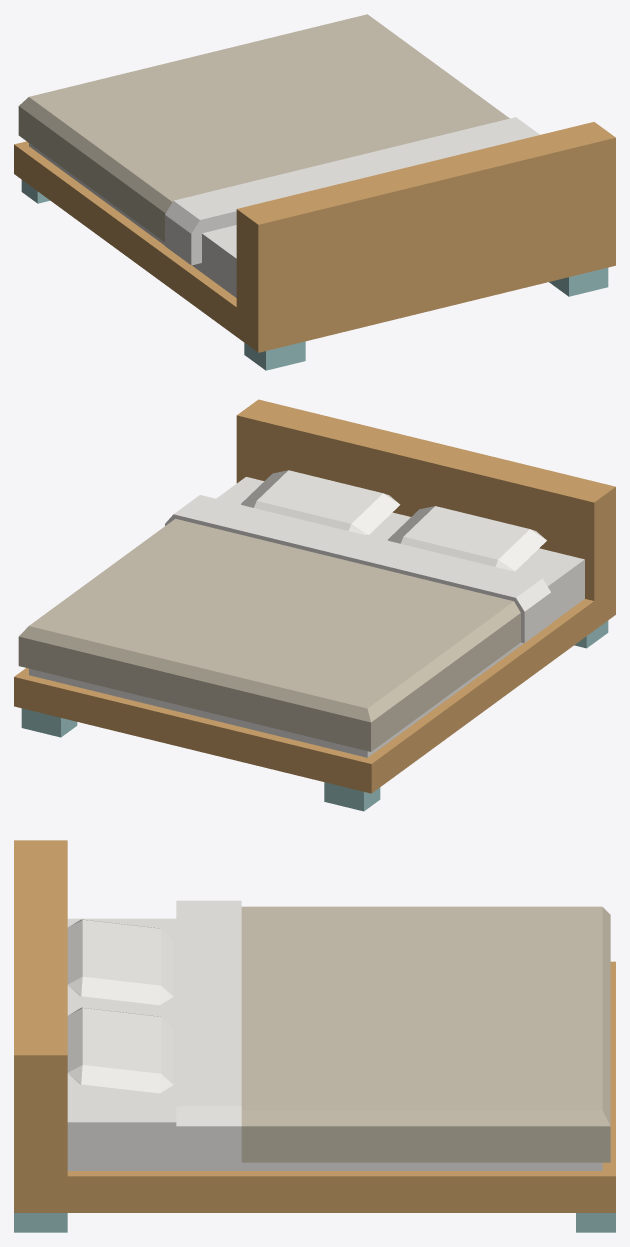
File: bed.obj
3 renders of one model, top to bottom at view 1: azimuth 30°, elevation 25°; view 2: azimuth 150°, elevation 25°; view 3: azimuth 270°, elevation 25°, orthographic. The views are drawn at different scales.
Parts seen in each view (by area): view 1: bedDouble, cover; view 2: cover, bedDouble, pillowLeft, pillowRight; view 3: cover, bedDouble, pillowLeft, pillowRight.
Boxes of the visible parts, <box> form: bedDouble: <box>14,122,615,370</box>; cover: <box>18,14,539,265</box>; cover: <box>18,495,551,751</box>; bedDouble: <box>14,399,615,811</box>; pillowLeft: <box>241,470,400,535</box>; pillowRight: <box>388,506,546,571</box>; cover: <box>176,900,610,1164</box>; bedDouble: <box>14,840,615,1232</box>; pillowLeft: <box>67,1007,173,1093</box>; pillowRight: <box>67,919,173,1005</box>.
Size of the model in its own units: 9.56 by 3.75 by 11.25.
